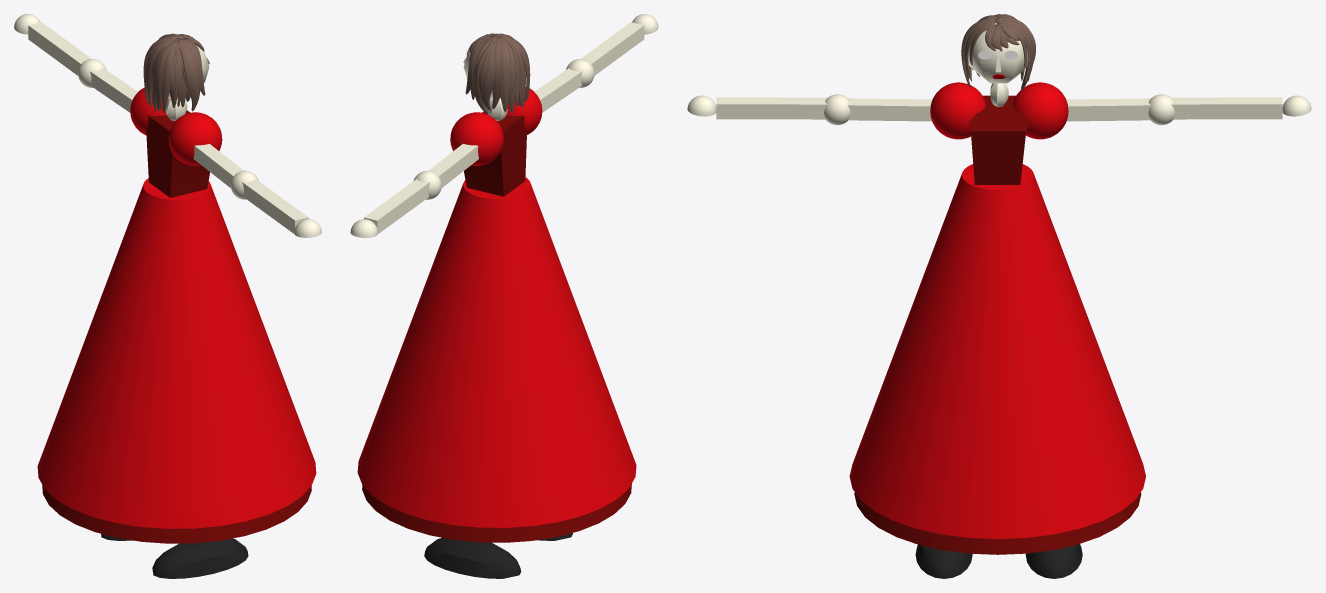
Rendered from PuppemitKleidKleid_anders (2).fbx.
3 renders of one model, left to right at view 1: azimuth 30°, elevation 25°; view 2: azimuth 150°, elevation 25°; view 3: azimuth 270°, elevation 25°, orthographic. The views are drawn at different scales.
Parts seen in each view (by area): view 1: Circle.010, Circle.001, HairCleanedUp.001, Cube.001, Sphere.007, Sphere.009, Cube.004, Cube.005, Cube.002, Cube.003, Sphere.010, Sphere.012 (+1 smaller); view 2: Circle.010, HairCleanedUp.001, Circle.001, Cube.001, Sphere.008, Sphere.010, Cube.005, Cube.004, Cube.003, Cube.002, Sphere.009, Sphere.011 (+1 smaller); view 3: Circle.010, Circle.001, Cube.001, Cube.004, Cube.005, HairCleanedUp.001, Sphere.010, Sphere.009, Cube.002, Cube.003, Sphere.016, Sphere.008 (+1 smaller).
Part boxes in pixels (left/top/right/bottom): Circle.010: left=37, top=178, right=316, bottom=528; Circle.001: left=42, top=485, right=311, bottom=543; HairCleanedUp.001: left=143, top=33, right=205, bottom=114; Cube.001: left=146, top=110, right=209, bottom=197; Sphere.007: left=152, top=538, right=248, bottom=578; Sphere.009: left=168, top=112, right=222, bottom=165; Cube.004: left=242, top=179, right=321, bottom=237; Cube.005: left=14, top=14, right=91, bottom=75; Cube.002: left=90, top=68, right=137, bottom=112; Cube.003: left=193, top=144, right=243, bottom=187; Sphere.010: left=130, top=87, right=168, bottom=135; Sphere.012: left=78, top=59, right=106, bottom=87; Circle.010: left=357, top=177, right=636, bottom=527; HairCleanedUp.001: left=465, top=33, right=530, bottom=114; Circle.001: left=362, top=484, right=631, bottom=542; Cube.001: left=464, top=111, right=526, bottom=196; Sphere.008: left=424, top=537, right=521, bottom=578; Sphere.010: left=450, top=112, right=503, bottom=165; Cube.005: left=350, top=179, right=430, bottom=237; Cube.004: left=581, top=14, right=658, bottom=75; Cube.003: left=534, top=68, right=582, bottom=112; Cube.002: left=428, top=144, right=478, bottom=188; Sphere.009: left=506, top=86, right=542, bottom=134; Sphere.011: left=566, top=59, right=594, bottom=87; Circle.010: left=849, top=164, right=1145, bottom=538; Circle.001: left=854, top=492, right=1141, bottom=554; Cube.001: left=968, top=95, right=1029, bottom=184; Cube.004: left=687, top=95, right=827, bottom=119; Cube.005: left=1171, top=95, right=1311, bottom=119; HairCleanedUp.001: left=961, top=14, right=1035, bottom=90; Sphere.010: left=1012, top=82, right=1068, bottom=139; Sphere.009: left=930, top=82, right=985, bottom=139; Cube.002: left=1066, top=98, right=1151, bottom=121; Cube.003: left=847, top=98, right=932, bottom=121; Sphere.016: left=968, top=22, right=1028, bottom=83; Sphere.008: left=1025, top=544, right=1082, bottom=578.
Size of the model in its own units: 215 by 432 by 454.
